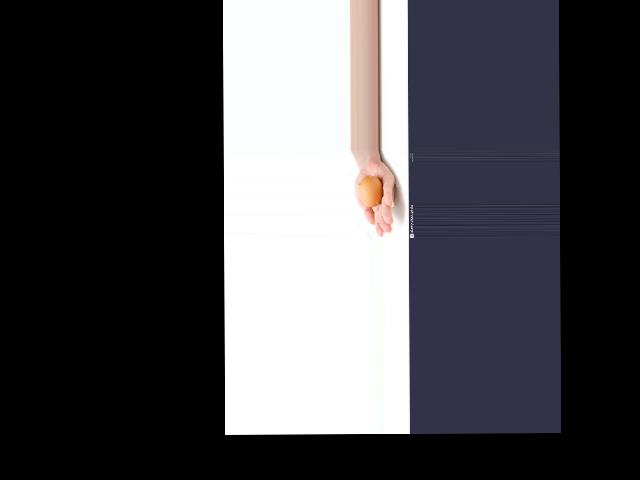egg: (358, 175, 382, 206)
